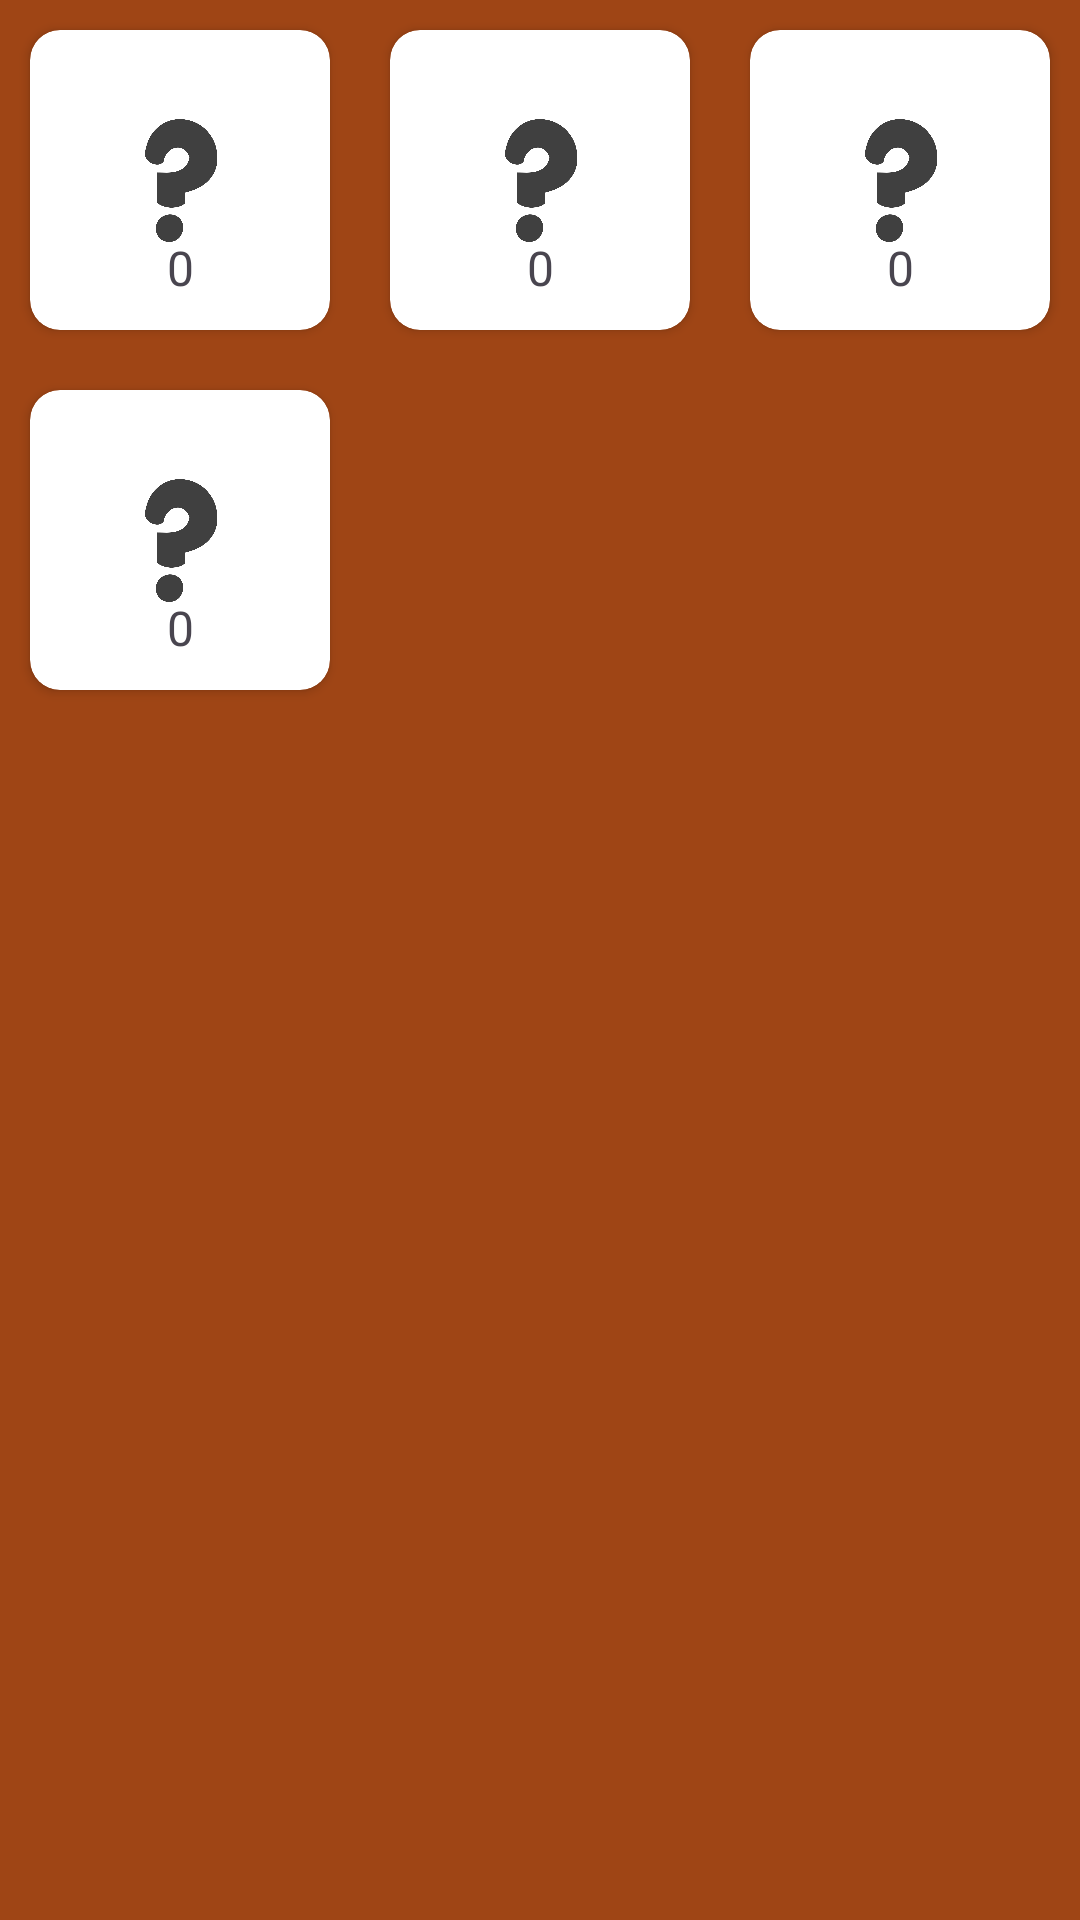

Where icons sit on this 1080px×1920px app screen, as {"x1": x1, "y1": y1, "x2": x2, "y2": y2}:
questionmark: {"x1": 30, "y1": 30, "x2": 330, "y2": 330}, {"x1": 390, "y1": 30, "x2": 690, "y2": 330}, {"x1": 750, "y1": 30, "x2": 1050, "y2": 330}, {"x1": 30, "y1": 390, "x2": 330, "y2": 690}
